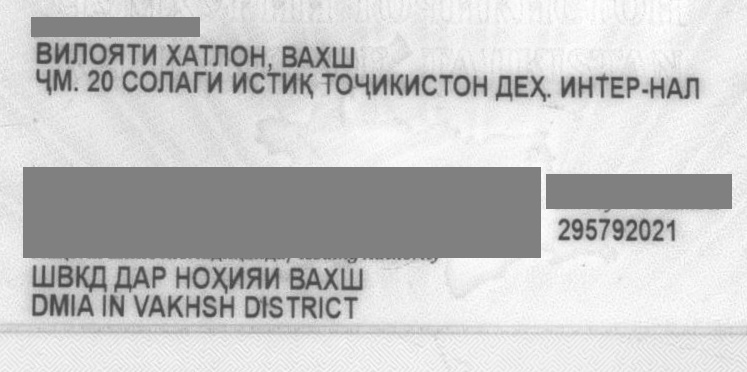0: (100, 58, 118, 100), (636, 215, 652, 243)
1: (665, 215, 679, 243)
2: (87, 58, 103, 100), (556, 214, 574, 242), (624, 215, 640, 243), (651, 215, 667, 243)
5: (584, 214, 600, 242)
7: (597, 214, 613, 242)
9: (570, 214, 588, 242), (610, 214, 628, 242)
А: (665, 67, 685, 107), (131, 258, 151, 296), (304, 258, 324, 296), (174, 60, 192, 100), (180, 40, 198, 74), (296, 41, 314, 75)
В: (53, 258, 75, 296), (37, 38, 61, 72), (288, 258, 306, 296), (285, 41, 299, 75)
Г: (193, 61, 209, 101)
Д: (89, 258, 115, 296), (115, 258, 133, 296), (498, 65, 514, 105)
Е: (513, 65, 533, 105), (610, 66, 626, 106)
И: (262, 258, 288, 296), (207, 61, 231, 101), (368, 63, 388, 103), (55, 38, 77, 72), (401, 63, 419, 103), (227, 258, 245, 296), (144, 39, 164, 73), (234, 61, 250, 101), (282, 62, 298, 102), (563, 66, 577, 106)
К: (296, 62, 322, 102), (388, 63, 406, 103), (73, 258, 91, 296)
Л: (683, 67, 707, 107), (71, 38, 95, 72), (158, 60, 178, 100), (213, 40, 231, 74)
М: (53, 59, 81, 99)
Н: (469, 64, 497, 104), (576, 66, 596, 106), (246, 41, 266, 75), (649, 67, 665, 107), (178, 258, 190, 296)
О: (89, 38, 115, 72), (138, 60, 158, 100), (189, 258, 209, 296), (230, 40, 250, 74), (334, 63, 350, 103), (453, 64, 469, 104)
Р: (150, 258, 174, 296), (624, 66, 640, 106)
С: (420, 64, 442, 104), (247, 61, 267, 101), (125, 60, 141, 100)
Т: (266, 62, 284, 102), (595, 66, 613, 106), (127, 39, 147, 73), (323, 62, 339, 102), (442, 64, 458, 104), (198, 40, 216, 74)
Х: (323, 258, 341, 296), (313, 42, 331, 76), (168, 39, 184, 73)
Ч: (352, 63, 372, 103)
Ш: (338, 258, 372, 296), (328, 42, 364, 76), (33, 258, 53, 296)
Я: (245, 258, 265, 296), (109, 39, 131, 73)
Ҳ: (211, 258, 231, 296), (532, 65, 548, 105)
Ҷ: (36, 59, 60, 99)
